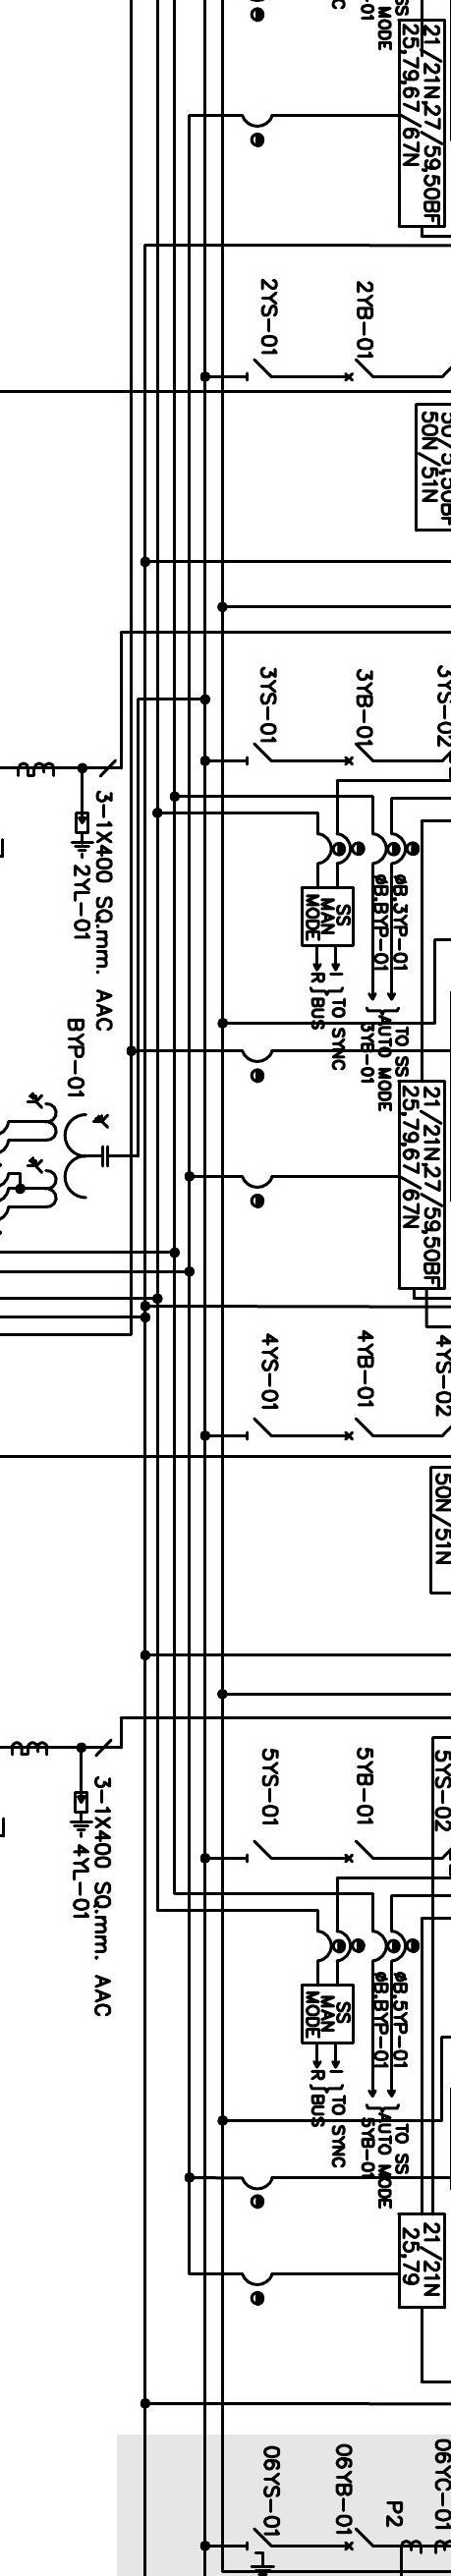115_breaker: (344, 358, 374, 382), (344, 742, 374, 766), (344, 1417, 374, 1441), (344, 1839, 374, 1864), (344, 2527, 374, 2551)
115_cvt_3p: (26, 1092, 109, 1209)
115_ds: (246, 358, 273, 383), (246, 742, 273, 767), (246, 1417, 273, 1442), (246, 1839, 273, 1865)
115_la: (69, 1791, 94, 1839), (70, 812, 95, 860)
ss_man_mode: (300, 885, 356, 947), (300, 1983, 355, 2044)
